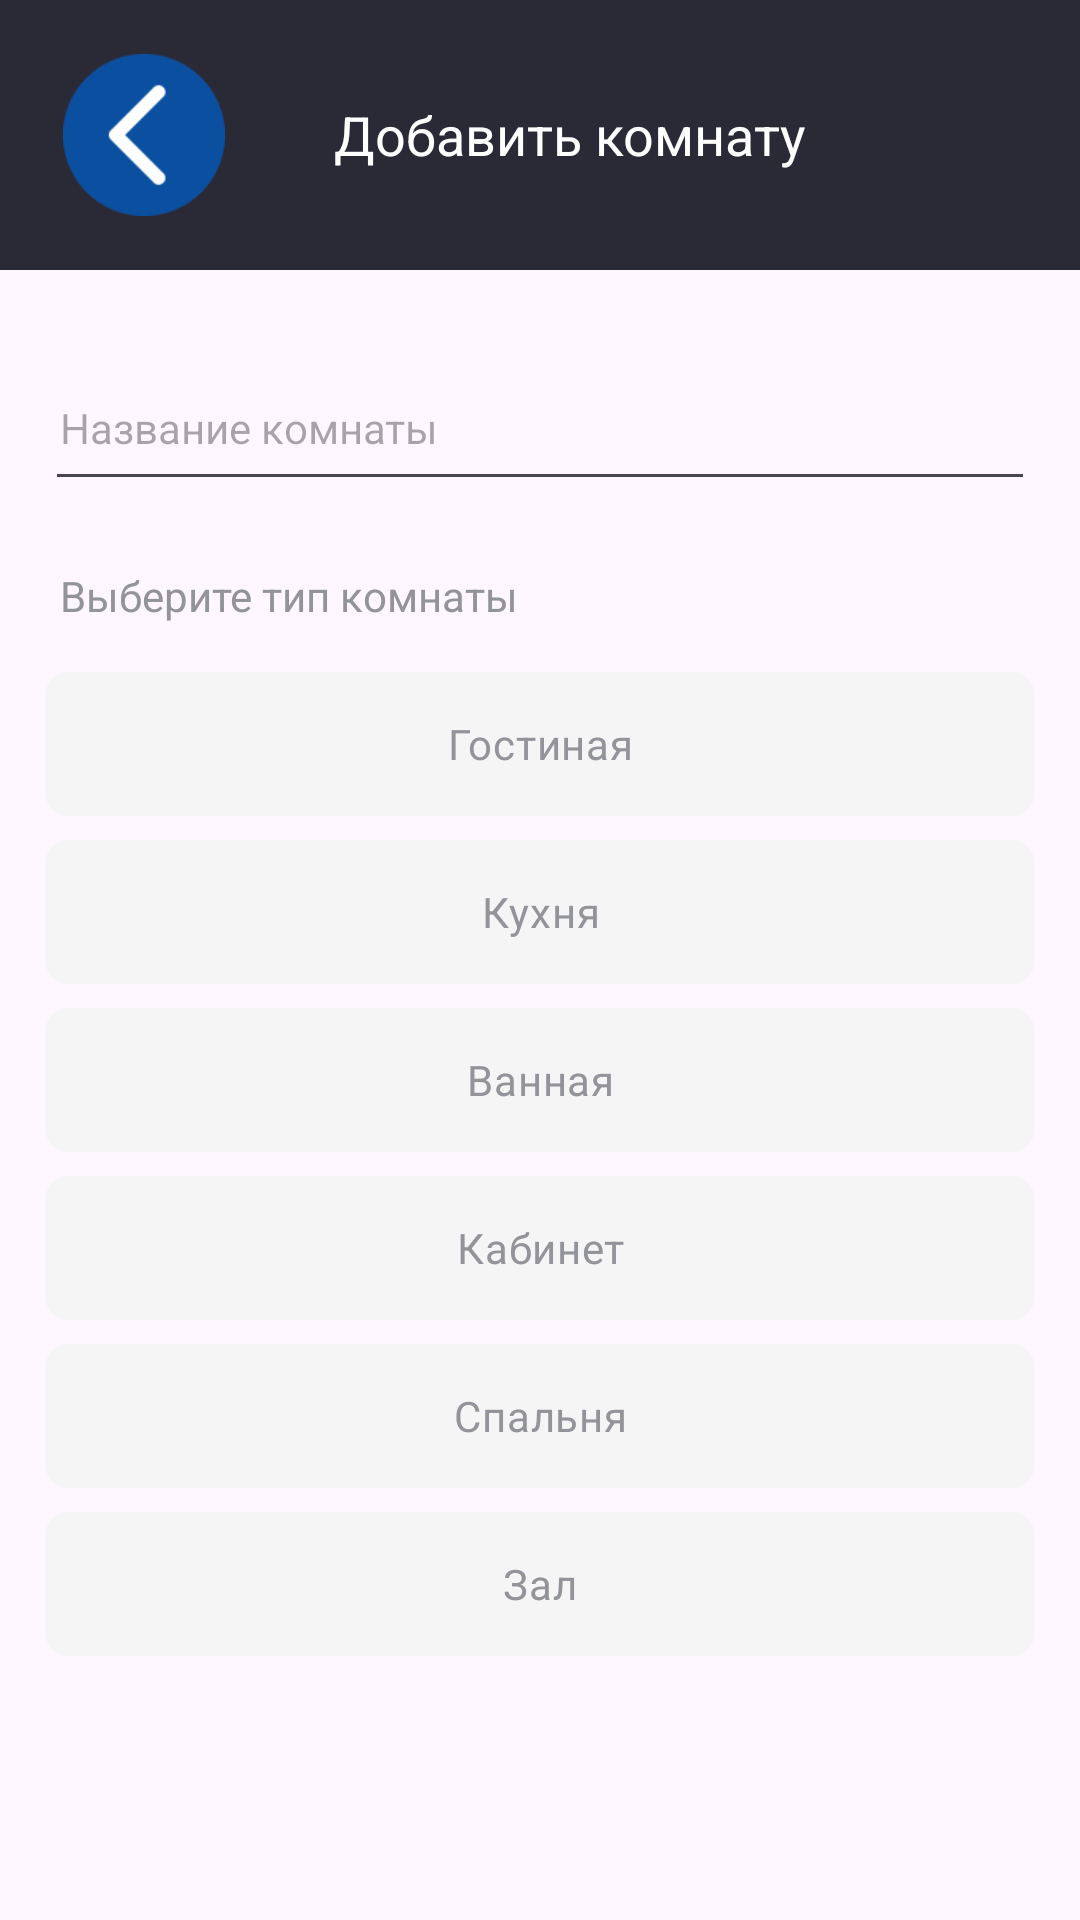

Where to tap for icons on this 1080w x 1920h app screen, as (x=x, y=y):
btnback: (x=144, y=135)
